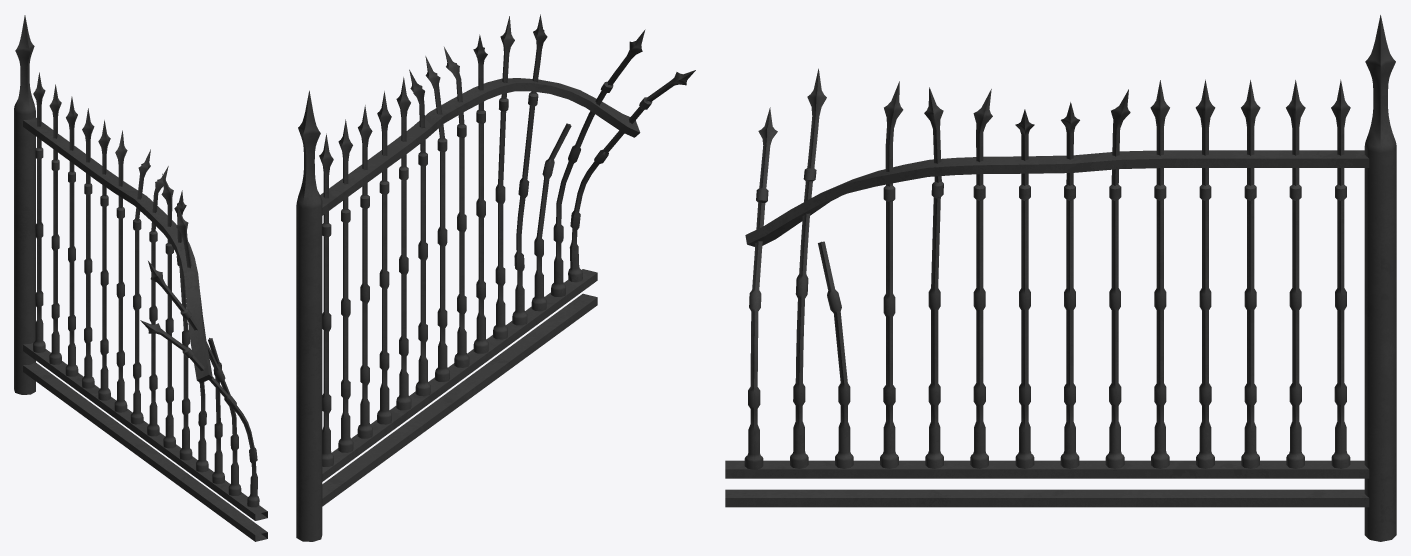
File: SM_RailingA3.fbx
The picture shows the model from 3 angles, left to right: view 1: azimuth 30°, elevation 25°; view 2: azimuth 150°, elevation 25°; view 3: azimuth 270°, elevation 25°; orthographic projection. The views are drawn at different scales.
Parts seen in each view (by area): view 1: SM_RailingA3_LOD0; view 2: SM_RailingA3_LOD0; view 3: SM_RailingA3_LOD0.
Part boxes in pixels (bbox=[...]): SM_RailingA3_LOD0: bbox=[14, 15, 267, 541]; SM_RailingA3_LOD0: bbox=[296, 14, 695, 541]; SM_RailingA3_LOD0: bbox=[725, 15, 1396, 541].
Size of the model in its own units: 58.08 by 201 by 173.
Materials: 1 (1 with a texture image).
